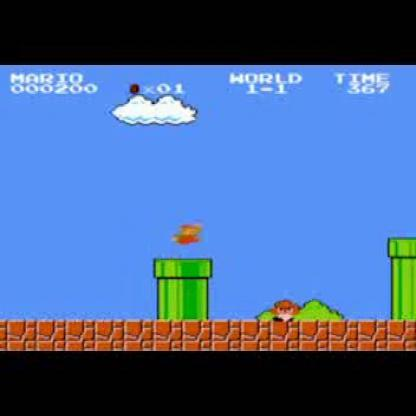Goomba: (272, 298, 299, 322)
